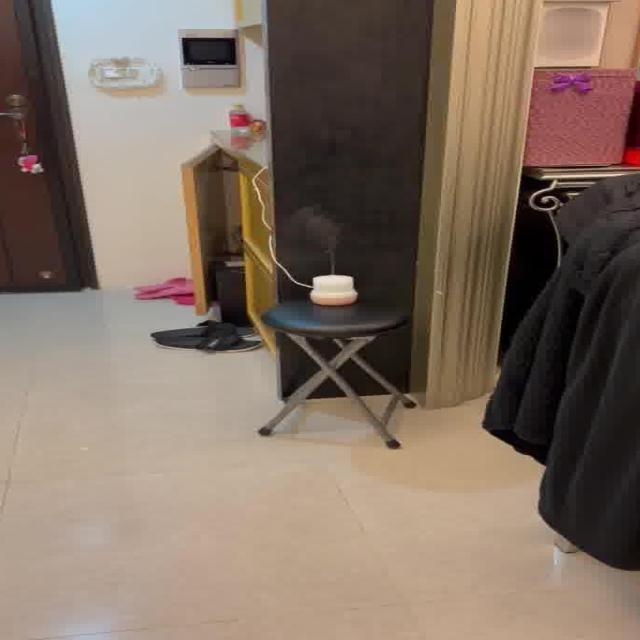fire: (292, 204, 347, 270)
